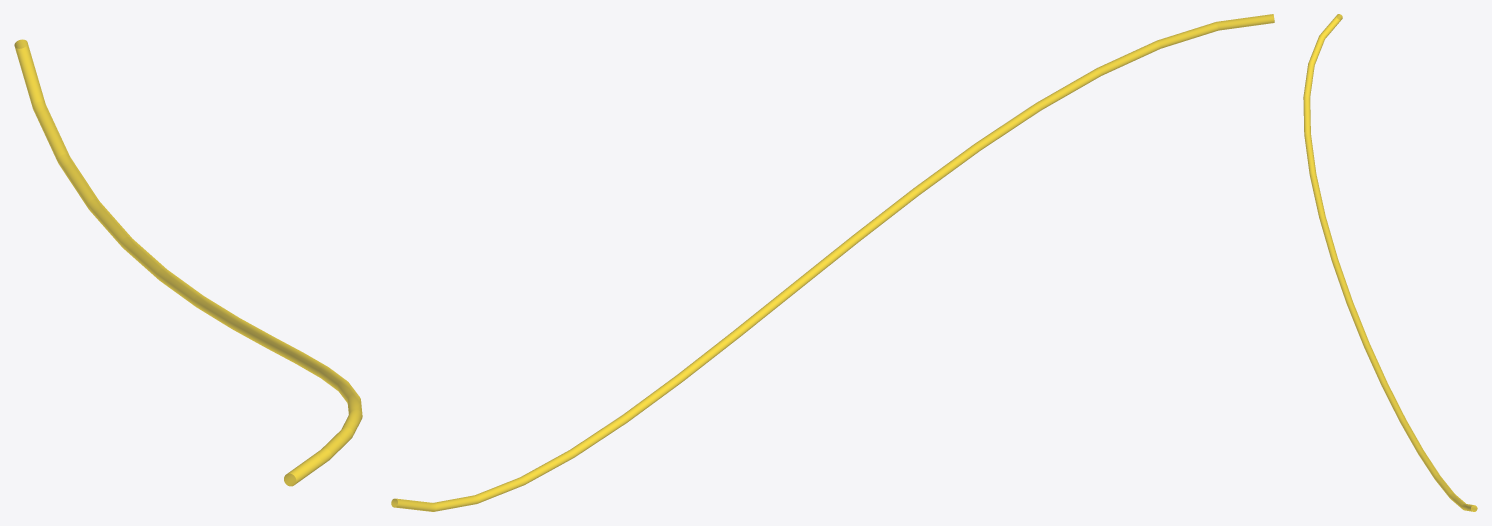
Rendered from Event_75125125_track_76.fbx.
3 views of the same model, side by side, from view 1: azimuth 90°, elevation 25°; view 2: azimuth 210°, elevation 25°; view 3: azimuth 270°, elevation 25° (orthographic). The views are drawn at different scales.
Parts seen in each view (by area): view 1: Model; view 2: Model; view 3: Model.
Part boxes in pixels (x1,y1,x2,y2): Model: [14, 39, 362, 486]; Model: [391, 14, 1274, 511]; Model: [1303, 14, 1477, 511].
Size of the model in its own units: 4.94 by 1.09 by 1.02.
